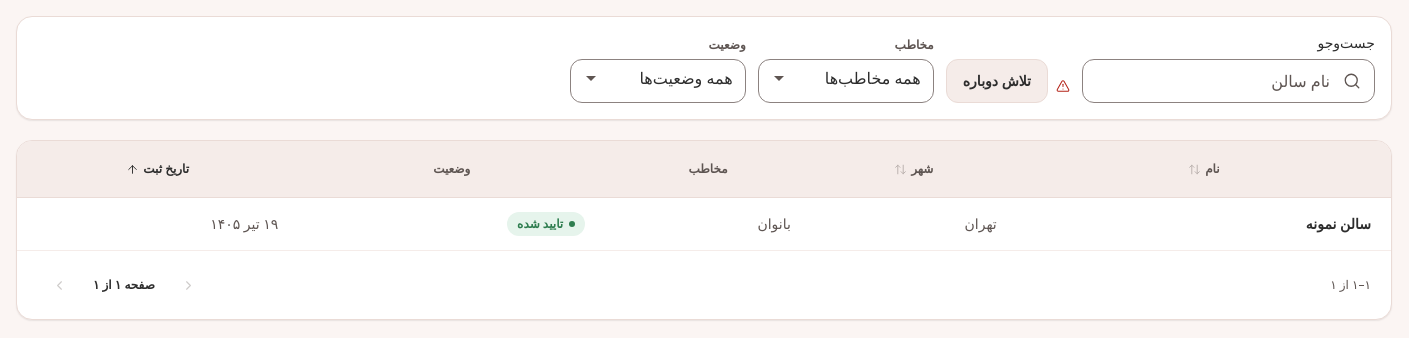
Scenario: SalonsView › shows a retry affordance for the city filter when GET /cities fails, and retry repopulates it
Click the button with test id "retry-cities" at (997, 81), box 946,59 -> 1048,103
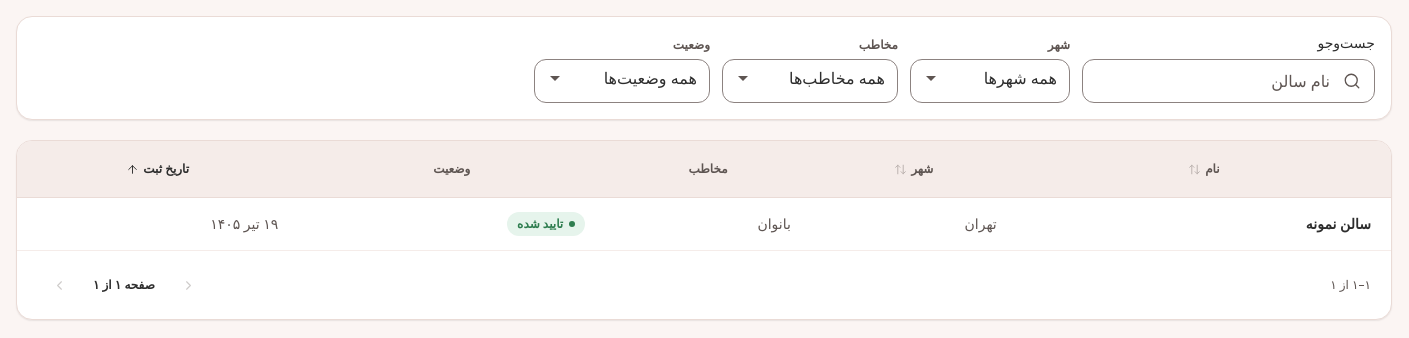
Now the element showing "شهر همه شهرها" is shown, box 910,37 -> 1070,103
